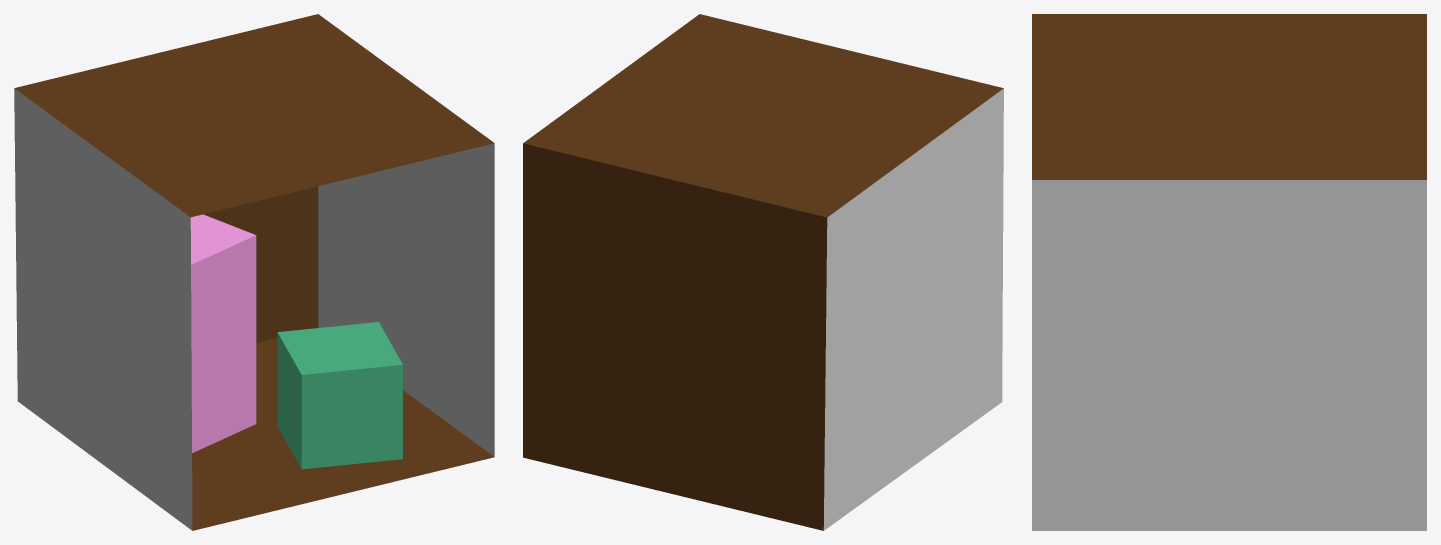
File: cornell_box2.glb
3 renders of one model, left to right at view 1: azimuth 30°, elevation 25°; view 2: azimuth 150°, elevation 25°; view 3: azimuth 270°, elevation 25°, orthographic. The views are drawn at different scales.
Visible parts, largest first — view 1: cbox, cbox_red, cbox_green, small_box, large_box; view 2: cbox, cbox_red; view 3: cbox_green, cbox.
Part boxes in pixels (x1,y1,x2,y2): cbox: (14, 14, 494, 530); cbox_red: (14, 88, 192, 530); cbox_green: (318, 143, 494, 456); small_box: (277, 322, 402, 469); large_box: (190, 214, 256, 453); cbox: (523, 14, 1003, 530); cbox_red: (823, 88, 1003, 530); cbox_green: (1032, 180, 1426, 530); cbox: (1032, 14, 1426, 179).
Size of the model in its own units: 556 by 549 by 559.
